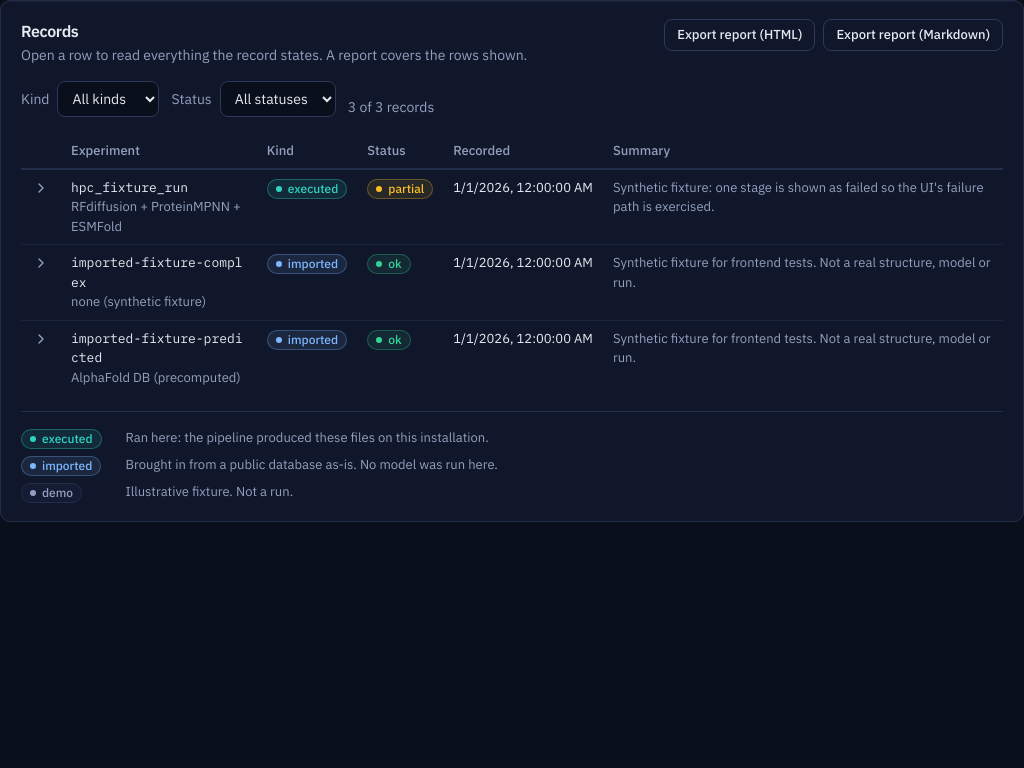
Test: ExperimentHistory › says why an export failed instead of downloading nothing
Click the button "Export report (HTML)" at (740, 35), box [664,19,815,51]
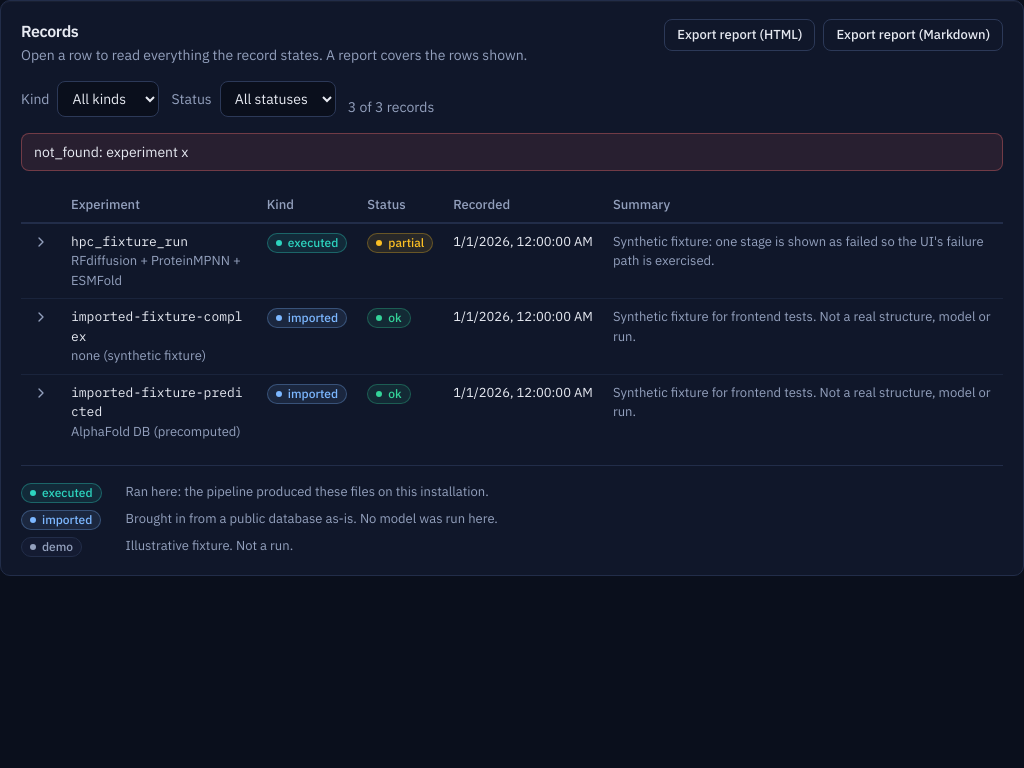
Check: the text "not_found: experiment x" is shown, box [21,133,1003,171]
